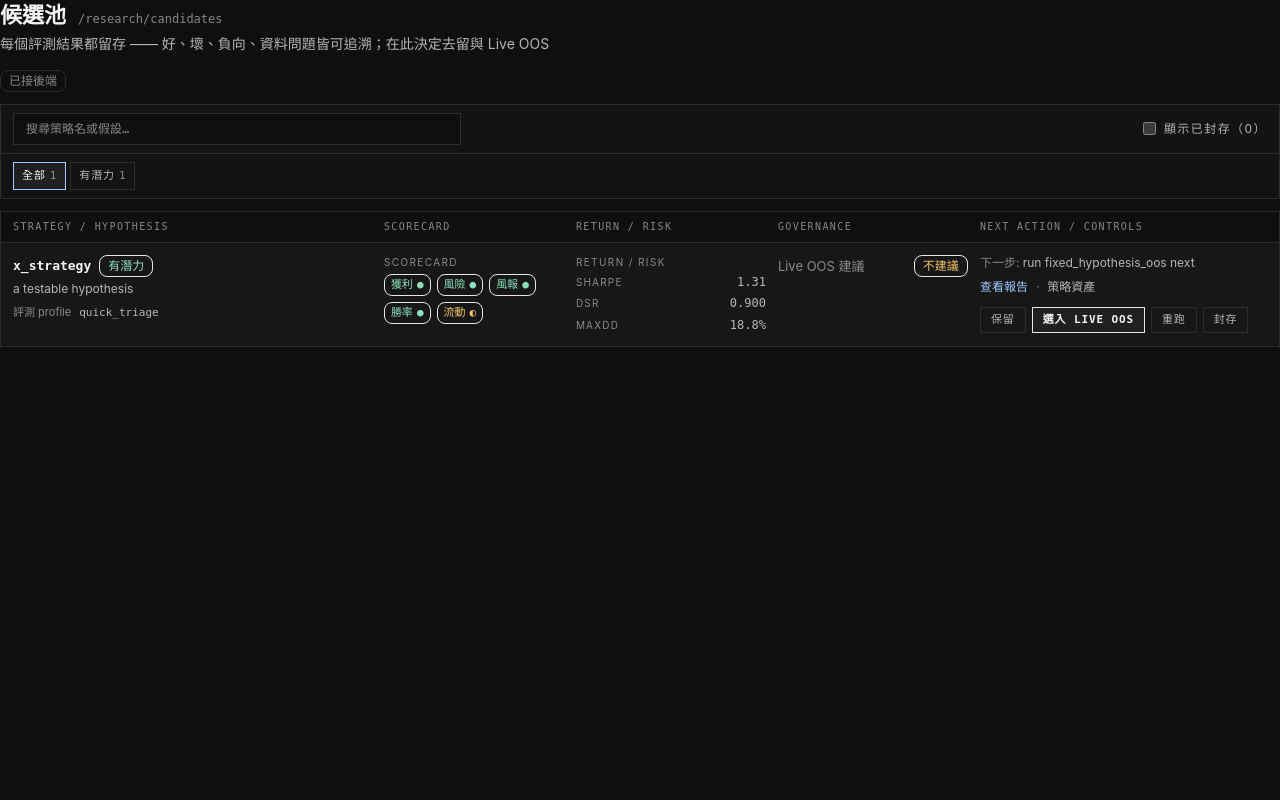
Test case: CandidatePoolPage — api mode (real mutations) › non-eligible Select Live OOS → override reason → POST /select-live-oos {override:true,reason}
Expected: the heading "x_strategy" is shown, [13,257,91,276]
Click the button "選入 Live OOS": (1088, 320) [1032,307,1145,333]
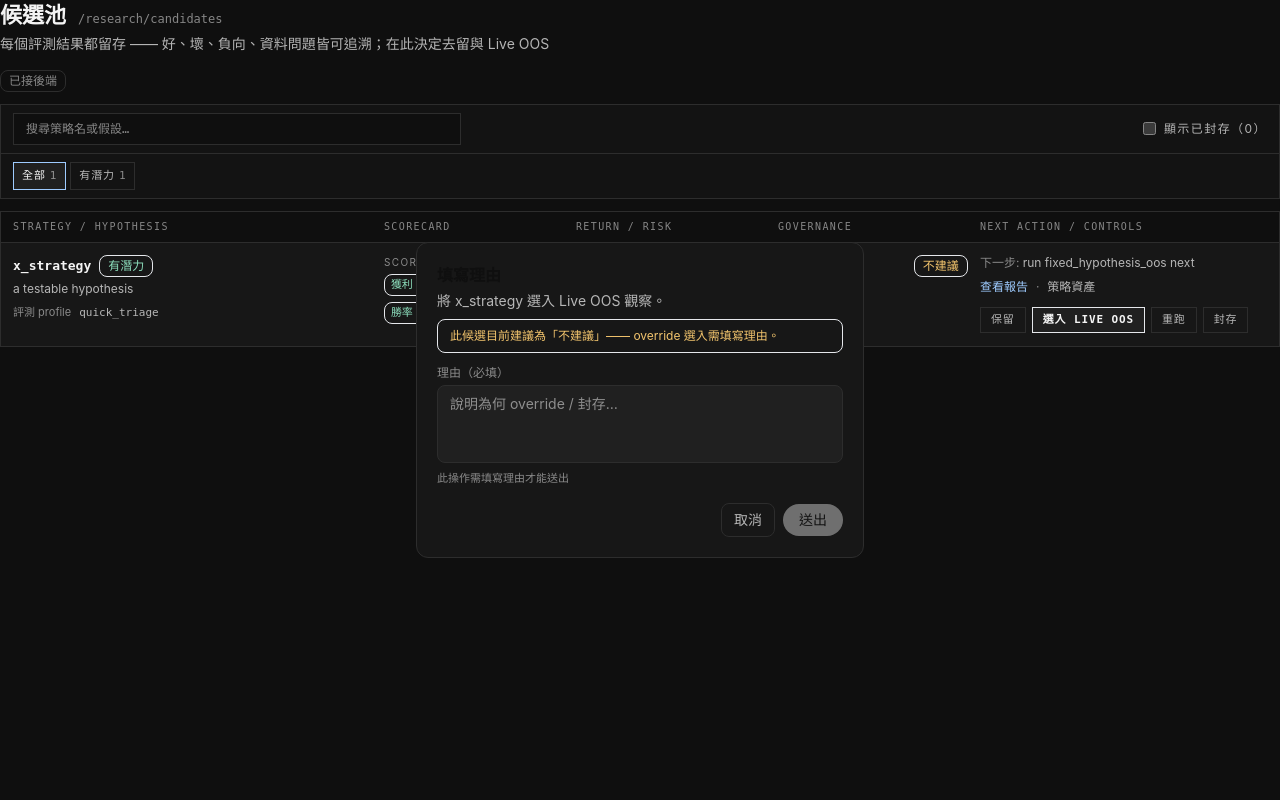
In the text box: (640, 424) [437,385,843,463], type "paper-replay probe"
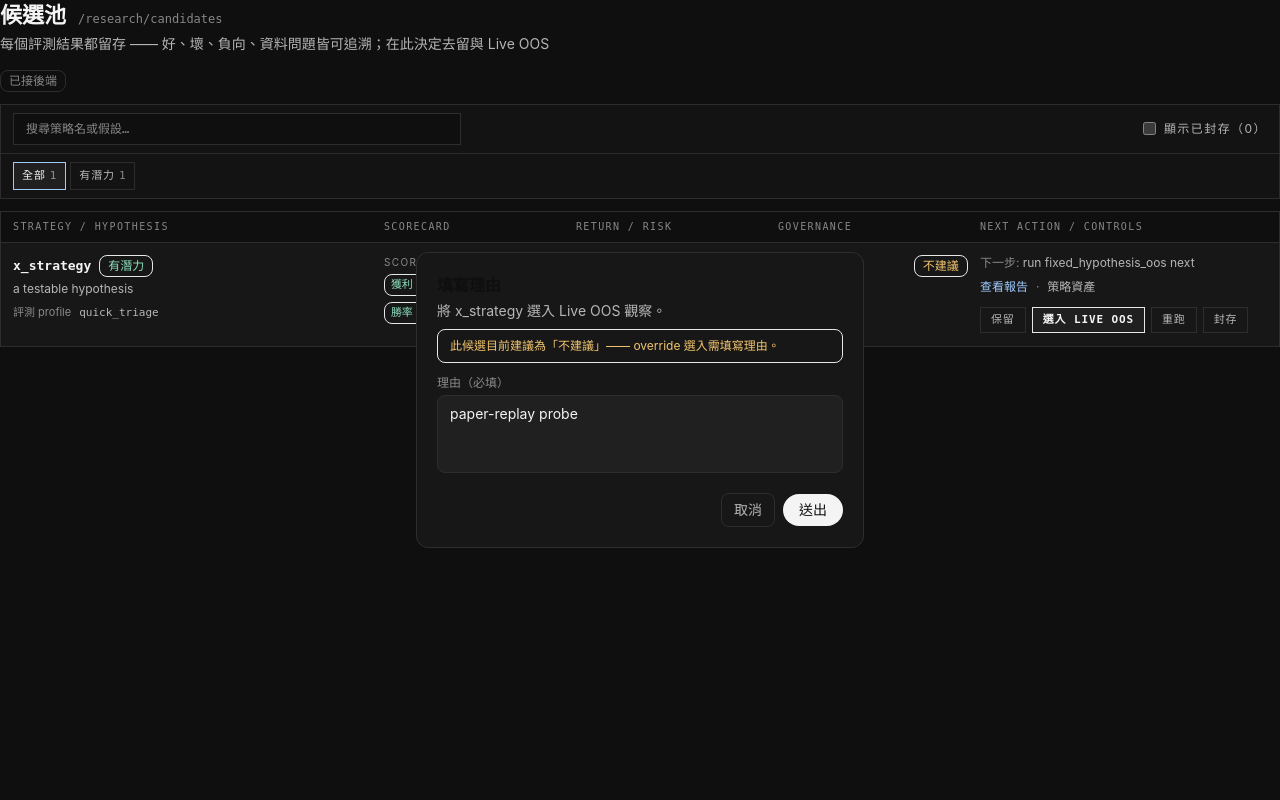
Click the button "送出": (813, 510) [783,494,843,526]
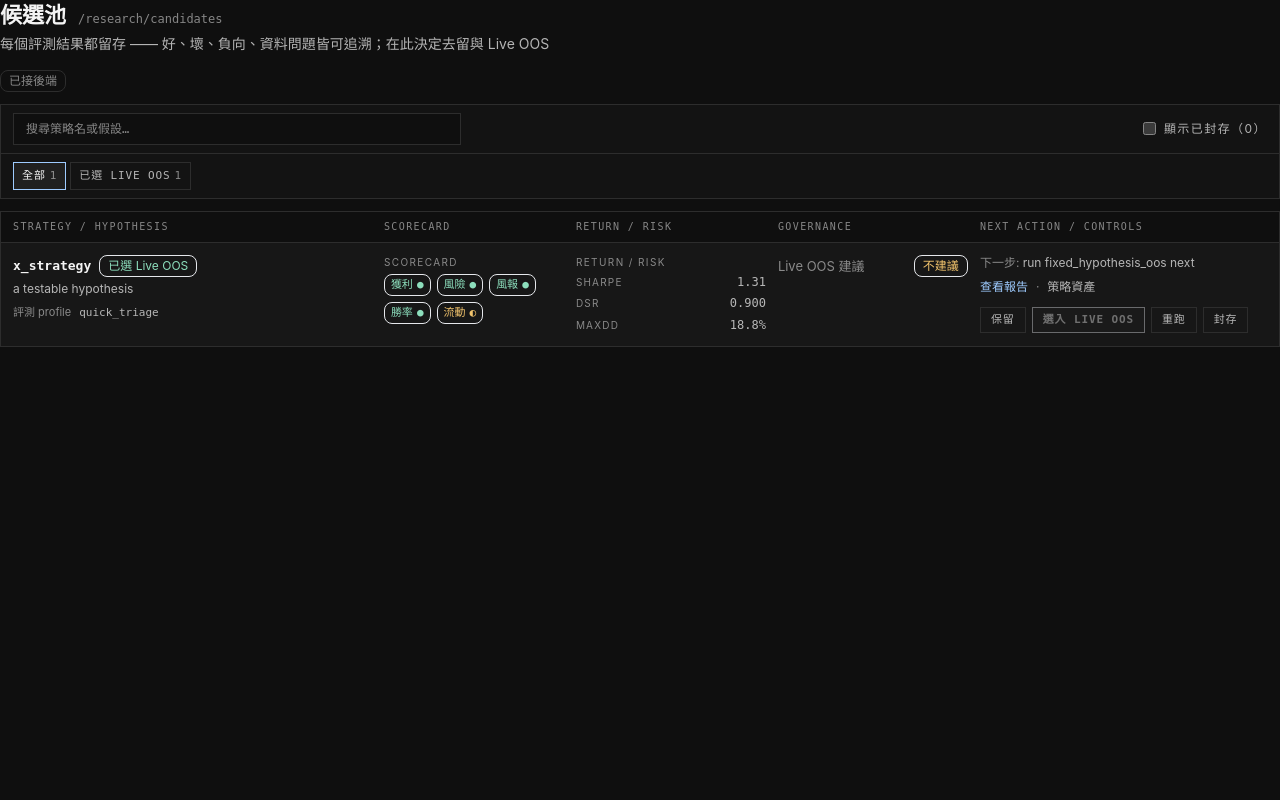
Result: the 1st text "已選 Live OOS" is shown at [79,168,171,184]
